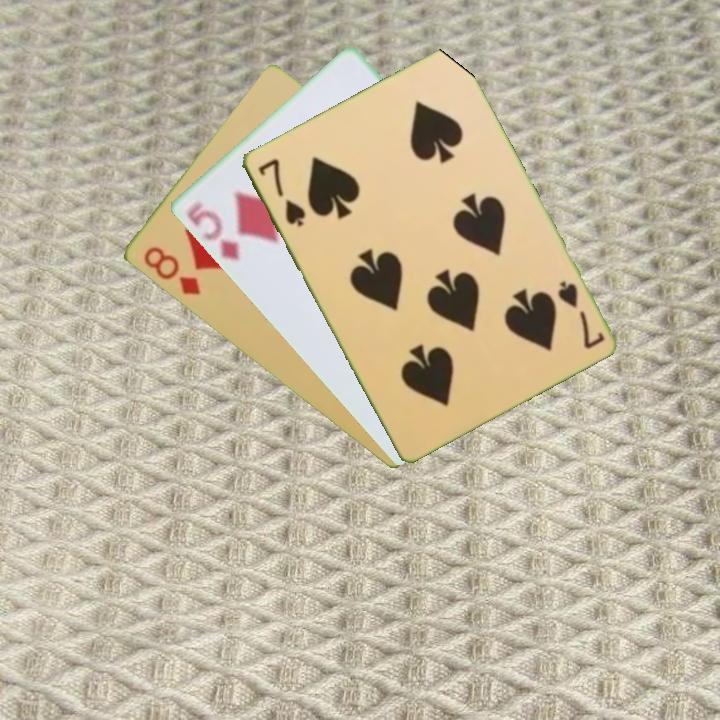5d: (182, 197, 242, 264)
7s: (254, 155, 308, 230), (553, 277, 607, 352)
8d: (139, 242, 204, 299)
